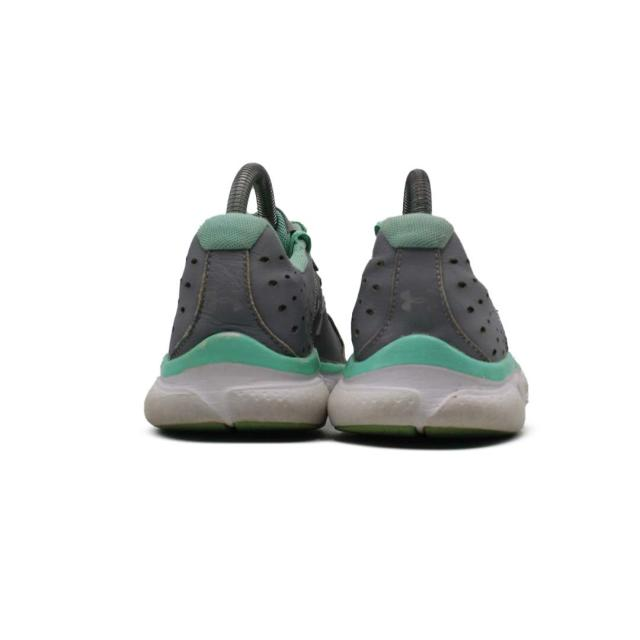heel: (169, 216, 307, 359), (361, 209, 483, 348)
midsole: (330, 334, 523, 436), (145, 362, 326, 433)
